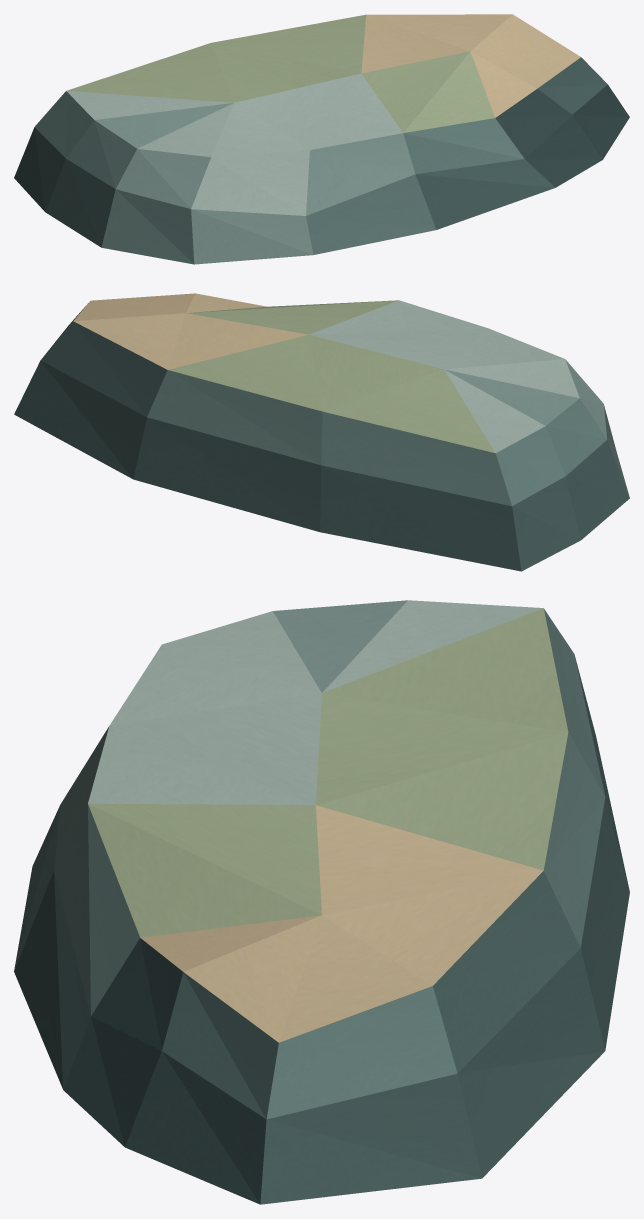
Rendered from 03_left_bank_platform_steps.obj.
The picture shows the model from 3 angles, top to bottom: view 1: azimuth 30°, elevation 25°; view 2: azimuth 150°, elevation 25°; view 3: azimuth 270°, elevation 25°; orthographic projection. The views are drawn at different scales.
Visible parts, largest first — view 1: Left_Bank_Main_Platform; view 2: Left_Bank_Main_Platform; view 3: Left_Bank_Main_Platform.
Boxes of the visible parts, x1=… form: Left_Bank_Main_Platform: x1=14, y1=14, x2=629, y2=264; Left_Bank_Main_Platform: x1=14, y1=293, x2=629, y2=571; Left_Bank_Main_Platform: x1=14, y1=600, x2=629, y2=1204.
Bounding box in the file's own units: 3.68 × 0.62 × 2.
Materials: 1 (1 with a texture image).
